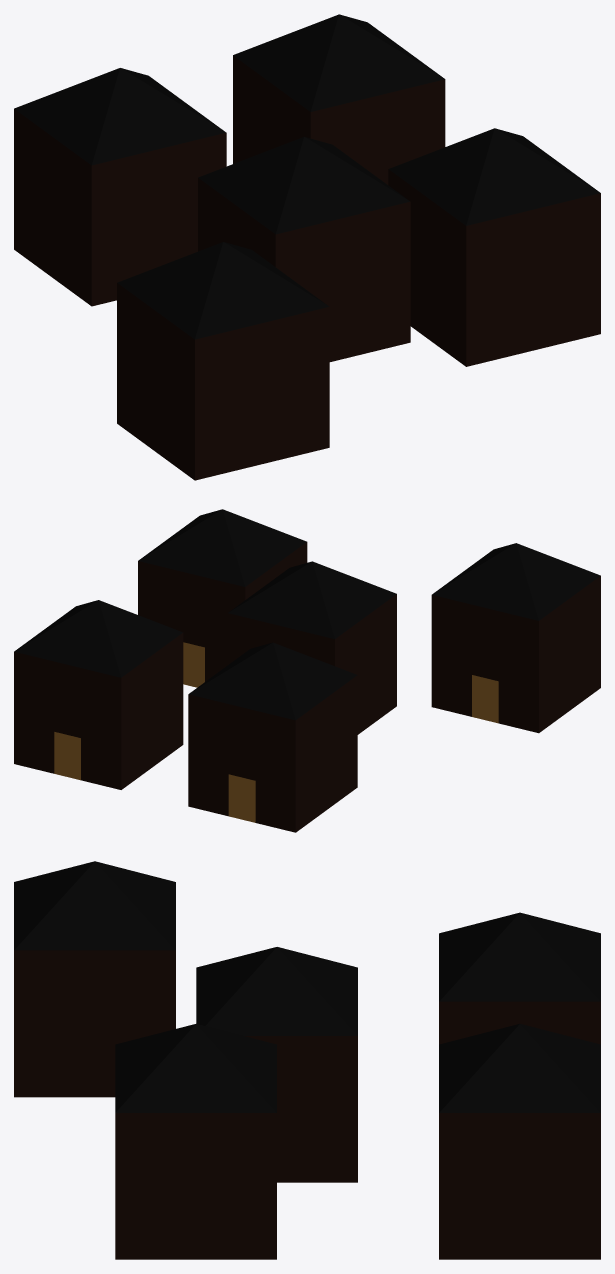
File: houses.obj
3 renders of one model, top to bottom at view 1: azimuth 30°, elevation 25°; view 2: azimuth 150°, elevation 25°; view 3: azimuth 270°, elevation 25°, orthographic. The views are drawn at different scales.
Visible parts, largest first — view 1: Cube.001_Cube.000, Cube.002_Cube.003, Cube.004_Cube.005, Cube_Cube.002, Cube.003_Cube.004; view 2: Cube.004_Cube.005, Cube.001_Cube.000, Cube.003_Cube.004, Cube.002_Cube.003, Cube_Cube.002; view 3: Cube.003_Cube.004, Cube.002_Cube.003, Cube.001_Cube.000, Cube_Cube.002, Cube.004_Cube.005.
Boxes of the visible parts, box(x1,y1,x2,y2) form: Cube.001_Cube.000: box(117, 242, 329, 480); Cube.002_Cube.003: box(388, 128, 600, 366); Cube.004_Cube.005: box(14, 68, 226, 306); Cube_Cube.002: box(198, 136, 410, 361); Cube.003_Cube.004: box(233, 14, 445, 184); Cube.004_Cube.005: box(188, 642, 357, 832); Cube.001_Cube.000: box(431, 543, 600, 733); Cube.003_Cube.004: box(14, 600, 183, 789); Cube.002_Cube.003: box(138, 509, 307, 687); Cube_Cube.002: box(227, 561, 396, 734); Cube.003_Cube.004: box(439, 1024, 600, 1259); Cube.002_Cube.003: box(115, 1024, 276, 1259); Cube.001_Cube.000: box(14, 861, 175, 1097); Cube_Cube.002: box(196, 947, 357, 1182); Cube.004_Cube.005: box(439, 912, 600, 1044).
Size of the model in its own units: 27 by 11 by 29.
